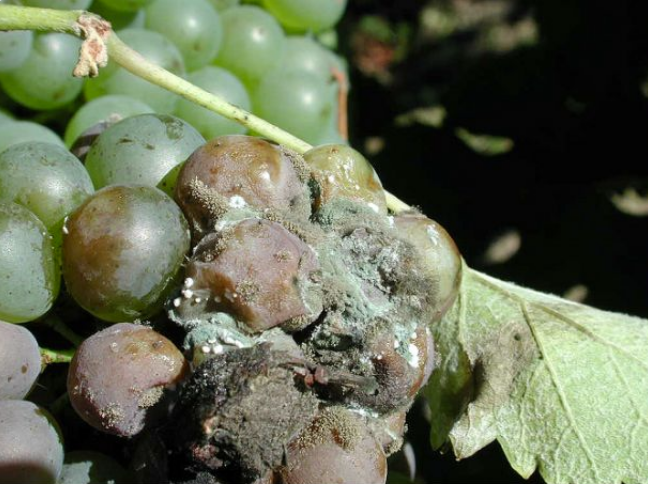Penicillium: (198, 361, 314, 467), (309, 222, 376, 331), (160, 282, 246, 351), (329, 339, 388, 412)
